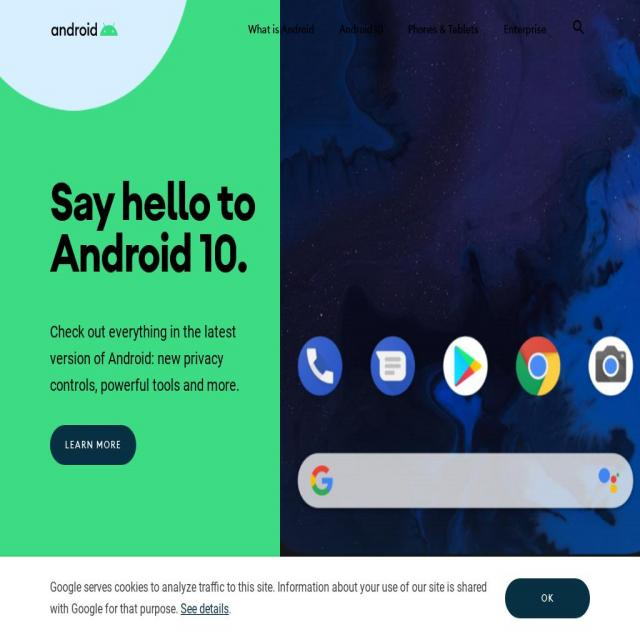navigation-links: (238, 15, 552, 43)
search: (565, 12, 594, 48)
